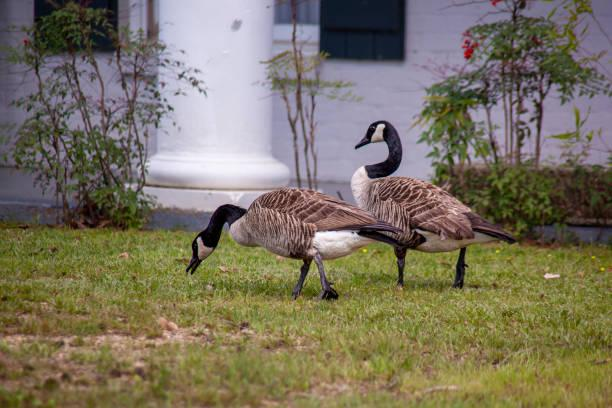Canadian-Goose: (351, 121, 517, 284), (188, 185, 385, 308)
